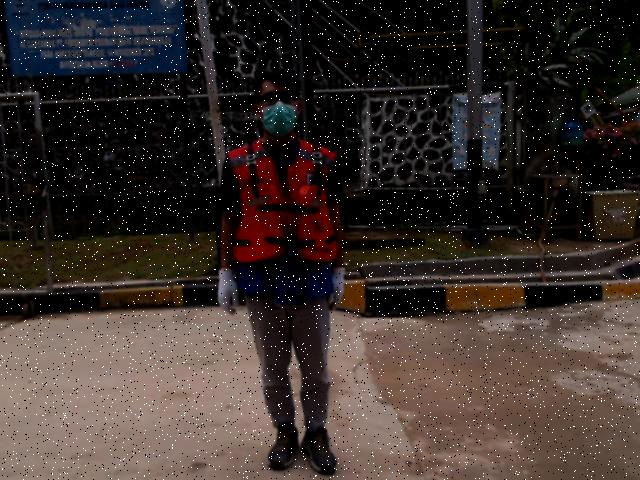glasses: (258, 93, 301, 104)
gloves: (324, 265, 349, 311), (217, 267, 240, 315)
mask: (262, 103, 299, 137)
safety-shoes: (300, 426, 337, 476), (267, 423, 300, 471)
vest: (232, 181, 339, 264)
